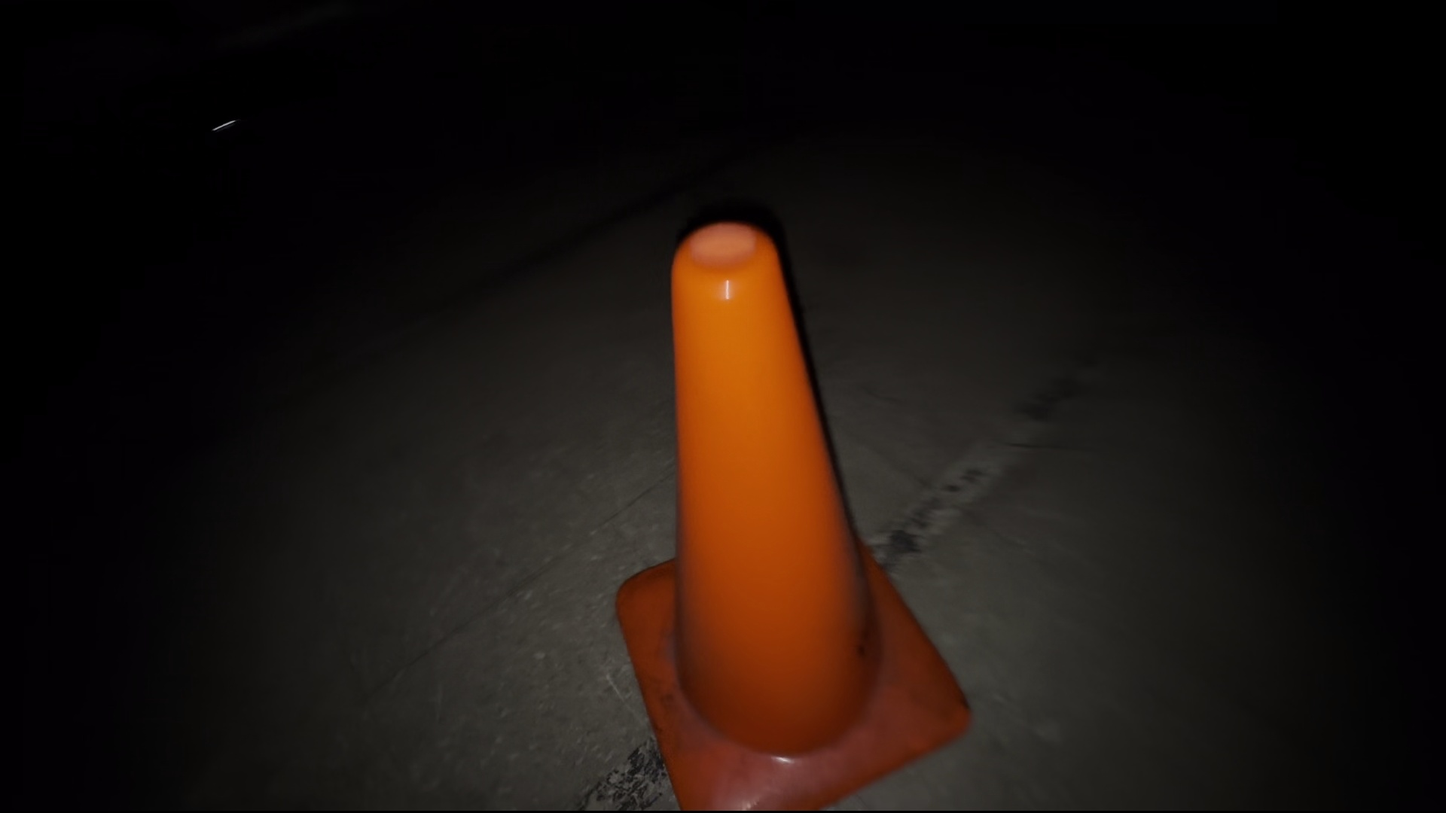traffic_cone: (614, 219, 973, 810)
